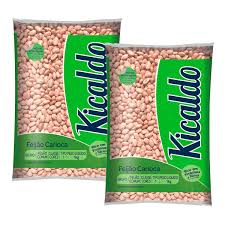feijão: (101, 41, 212, 204), (11, 16, 119, 183)
